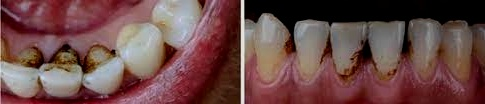Tooth Discoloration: (313, 24, 406, 88), (9, 36, 113, 78)
